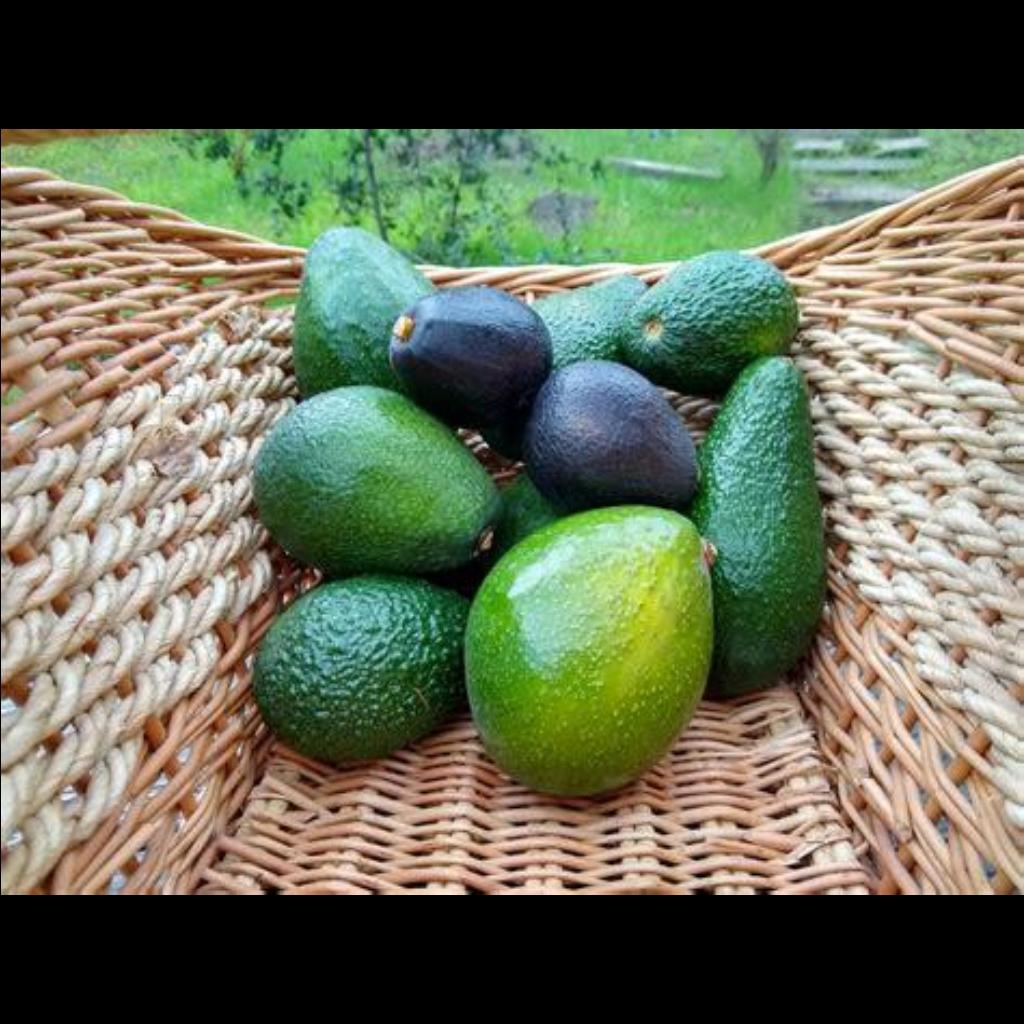Healthy: (471, 532, 709, 774), (274, 384, 472, 608), (702, 370, 828, 588), (254, 602, 456, 732), (632, 258, 784, 350), (296, 230, 416, 328)
